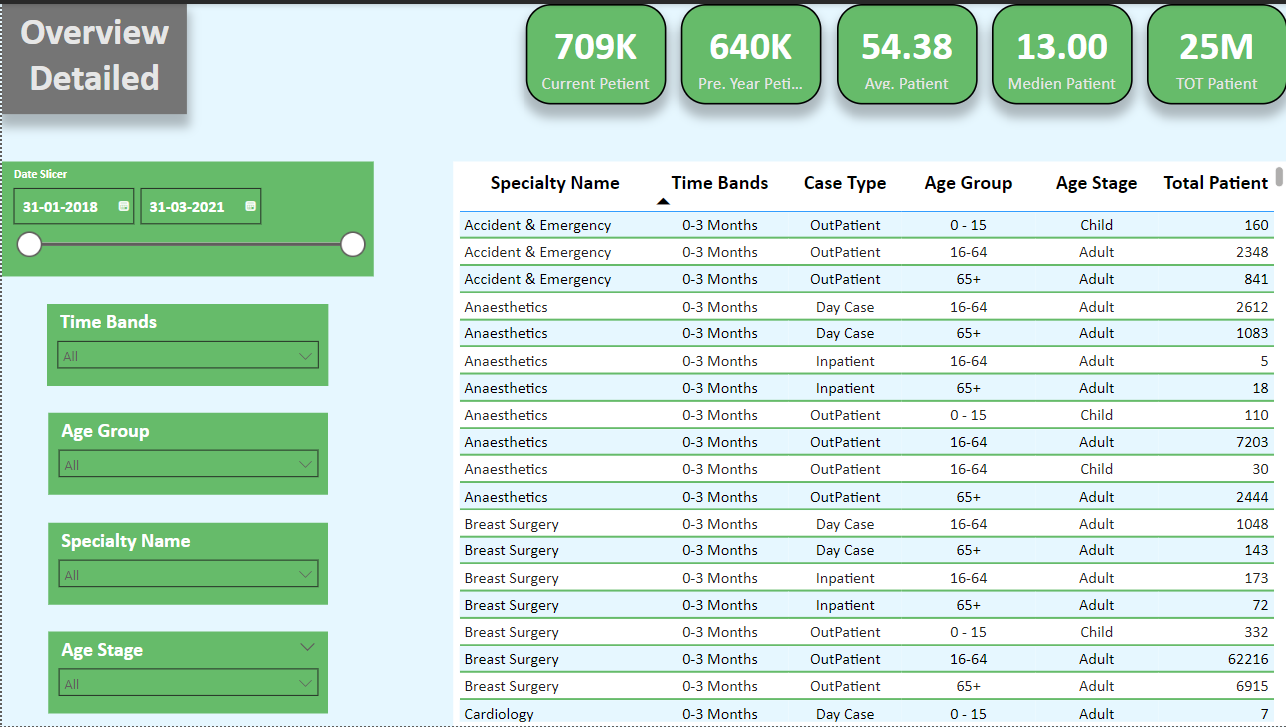

This screenshot's page, from the dashboard's own definition file:
{"tool":"powerbi","page":{"name":"Detail Overview","canvas":[1280,720],"ordinal":2},"visuals":[{"type":"card","fields":{"Values":["All Measures.Current Petient"]},"box":[521.4,0,140,100],"z":0},{"type":"card","fields":{"Values":["All Measures.Pre. Year Petient"]},"box":[676,0,140,100],"z":1000},{"type":"card","fields":{"Values":["All Measures.Avg. Patient"]},"box":[830.6,0,140,100],"z":2000},{"type":"card","fields":{"Values":["All Measures.Medien Patient"]},"box":[985.3,0,140,100],"z":3000},{"type":"card","fields":{"Values":["All Measures.TOT Patient"]},"box":[1139.9,0,140,100],"z":4000},{"type":"slicer","fields":{"Values":["Main DataSet.Archive_Date"]},"box":[-0.6,157.1,371.4,114.3],"z":6000},{"type":"slicer","fields":{"Values":["Main DataSet.Specialty_Name"]},"box":[45.8,515.7,278.6,81.4],"z":7000},{"type":"slicer","fields":{"Values":["Main DataSet.Adult_Child"]},"box":[45.8,624.3,278.6,81.4],"z":8000},{"type":"slicer","fields":{"Values":["Main DataSet.Time_Bands"]},"box":[45.1,298.6,280,81.4],"z":9000},{"type":"slicer","fields":{"Values":["Main DataSet.Age_Profile"]},"box":[45.8,407.1,278.6,81.4],"z":10000},{"type":"tableEx","fields":{"Values":["Main DataSet.Specialty_Name","Main DataSet.Time_Bands","Main DataSet.Case_Type","Main DataSet.Age_Profile","Main DataSet.Adult_Child","Sum(Main DataSet.Total)"]},"box":[448.6,157.1,831.4,562.9],"z":11000},{"type":"textbox","box":[0,0,183.9,109.8],"z":12000}]}

Visuals, with their boxes in screenshot pixels (x1, y1, x2, y2), scaled from the page's 1280x720 canvas onto the 1286x727 screenshot:
card - All Measures.Current Petient: <bbox>524, 0, 665, 101</bbox>
card - All Measures.Pre. Year Petient: <bbox>679, 0, 820, 101</bbox>
card - All Measures.Avg. Patient: <bbox>834, 0, 975, 101</bbox>
card - All Measures.Medien Patient: <bbox>990, 0, 1131, 101</bbox>
card - All Measures.TOT Patient: <bbox>1145, 0, 1285, 101</bbox>
slicer - Main DataSet.Archive_Date: <bbox>0, 159, 373, 274</bbox>
slicer - Main DataSet.Specialty_Name: <bbox>46, 521, 326, 603</bbox>
slicer - Main DataSet.Adult_Child: <bbox>46, 630, 326, 713</bbox>
slicer - Main DataSet.Time_Bands: <bbox>45, 302, 327, 384</bbox>
slicer - Main DataSet.Age_Profile: <bbox>46, 411, 326, 493</bbox>
tableEx - Main DataSet.Specialty_Name x Main DataSet.Time_Bands: <bbox>451, 159, 1285, 726</bbox>
textbox: <bbox>0, 0, 185, 111</bbox>
